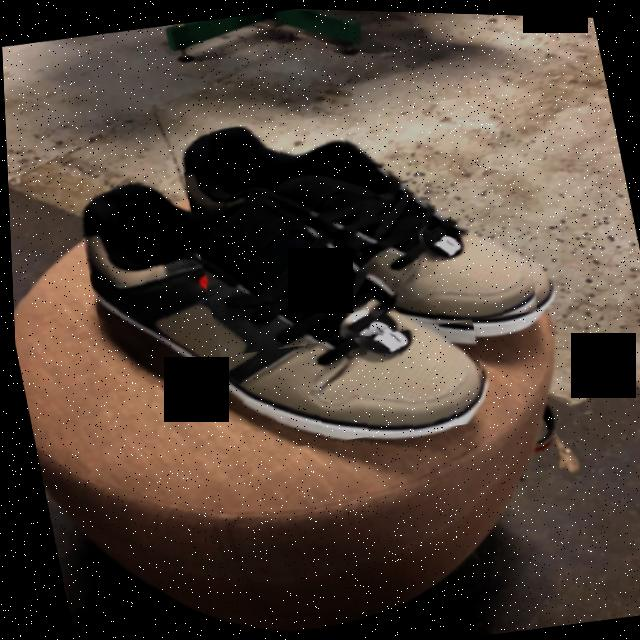shoe: (81, 177, 483, 438), (182, 125, 535, 316)
